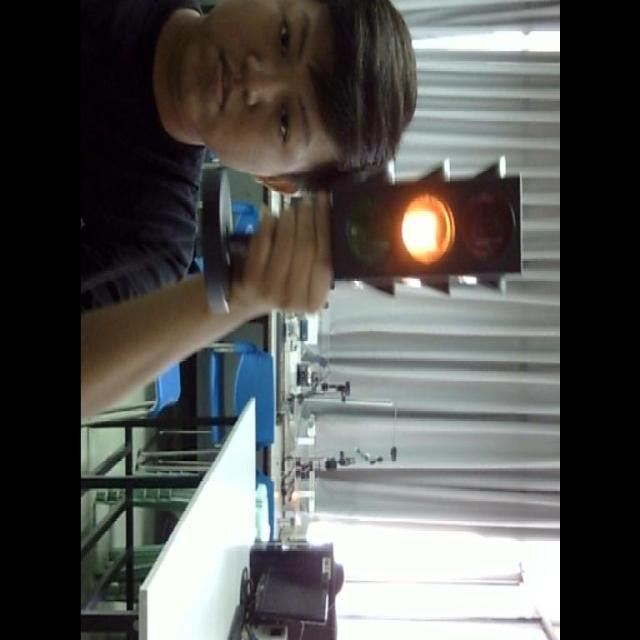yellow light: (399, 190, 454, 268)
